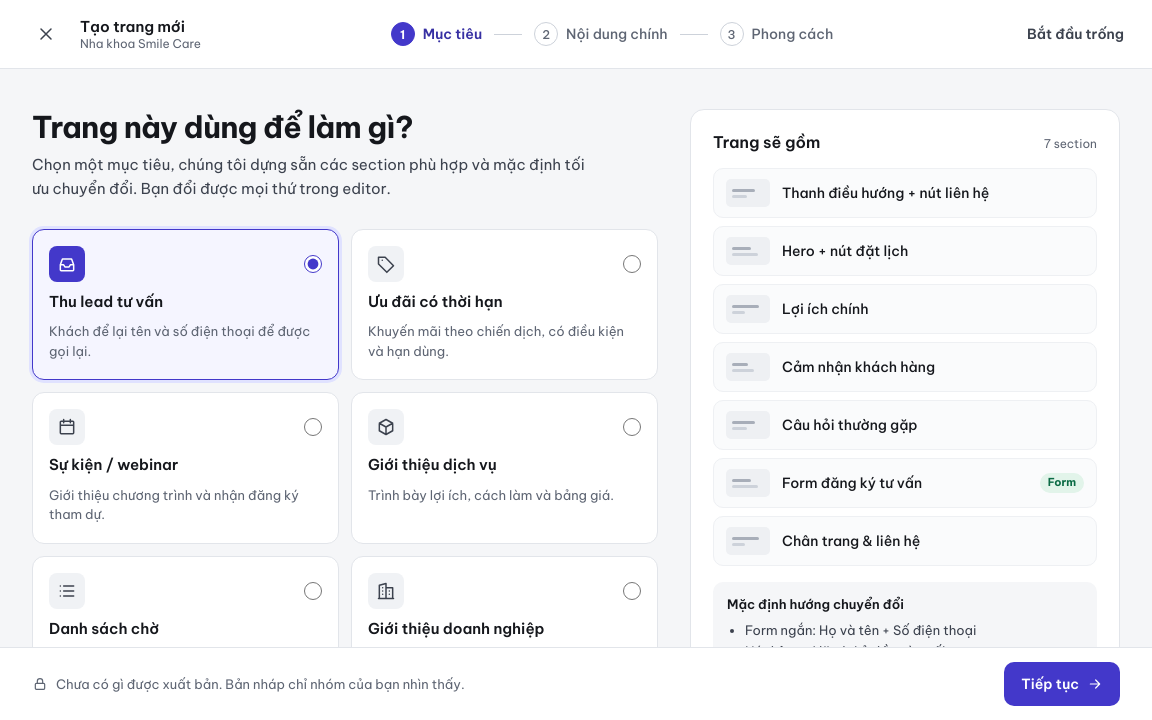
Scenario: CreatePageWizard › goes back a step
Click the button "Tiếp tục". click: (1062, 684)
box: [1004,662,1120,706]
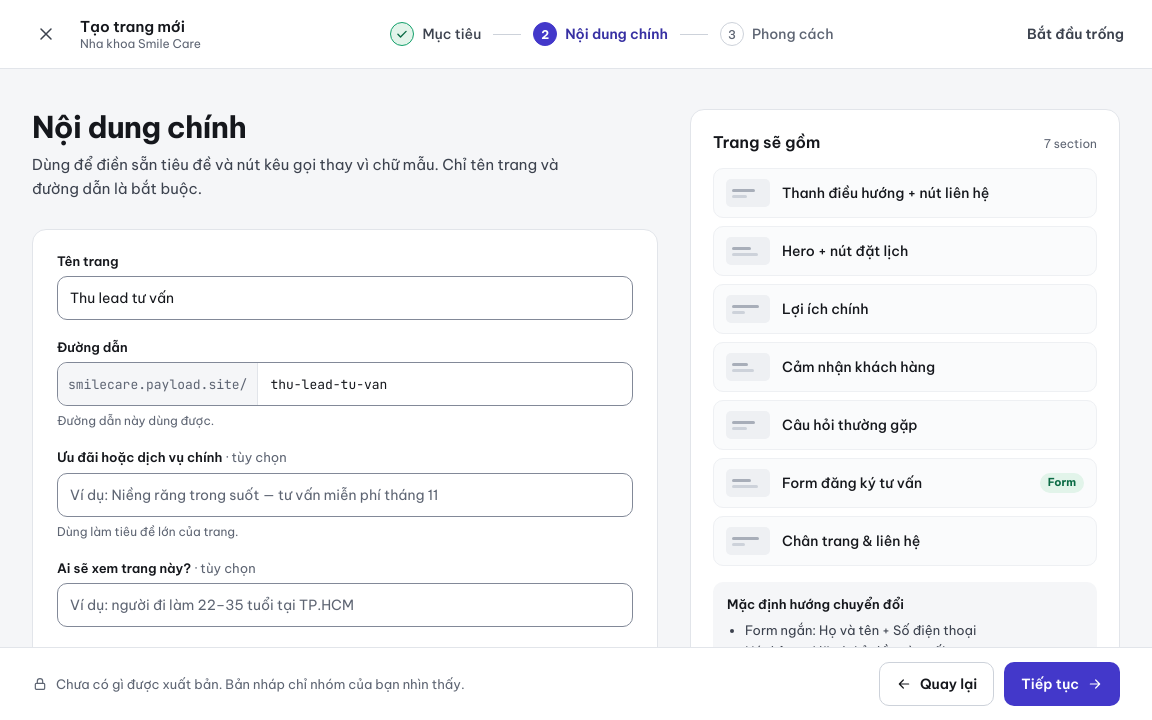
Click the button "Quay lại". click: (937, 684)
box: [879,662,994,706]
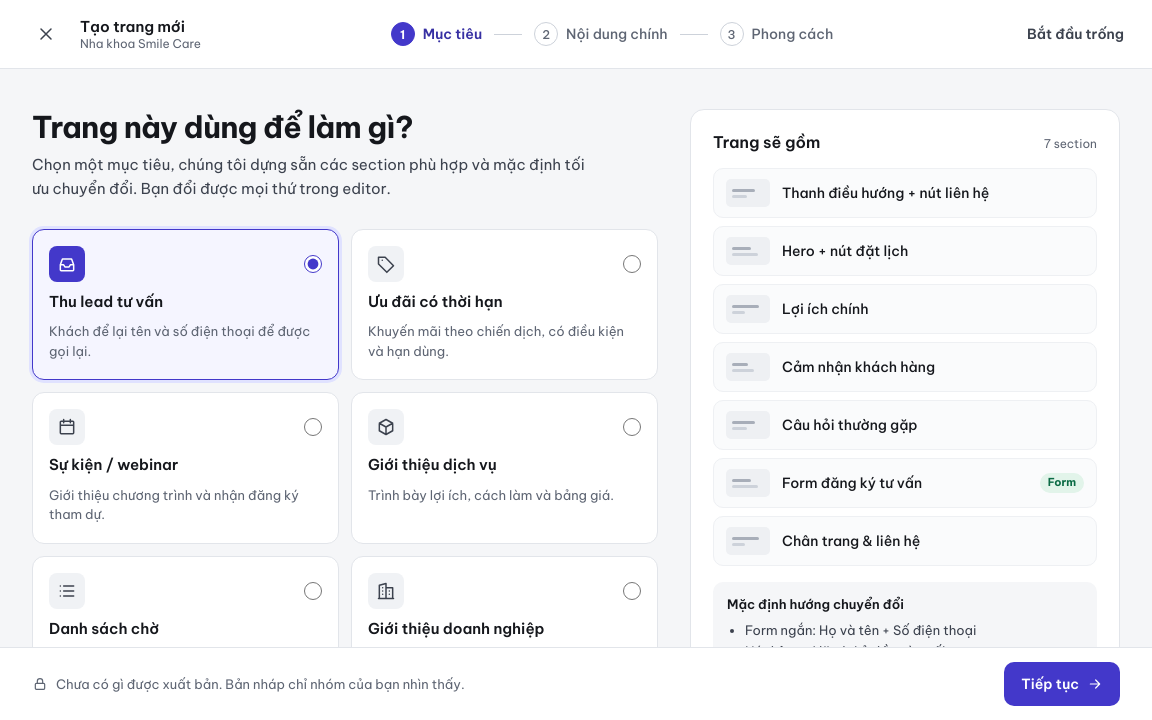
Expected: the element showing "1 Mục tiêu" is shown, [391,22,482,46]
Expected: the radio button labelled "Thu lead tư vấn" is checked, [304,255,322,273]
